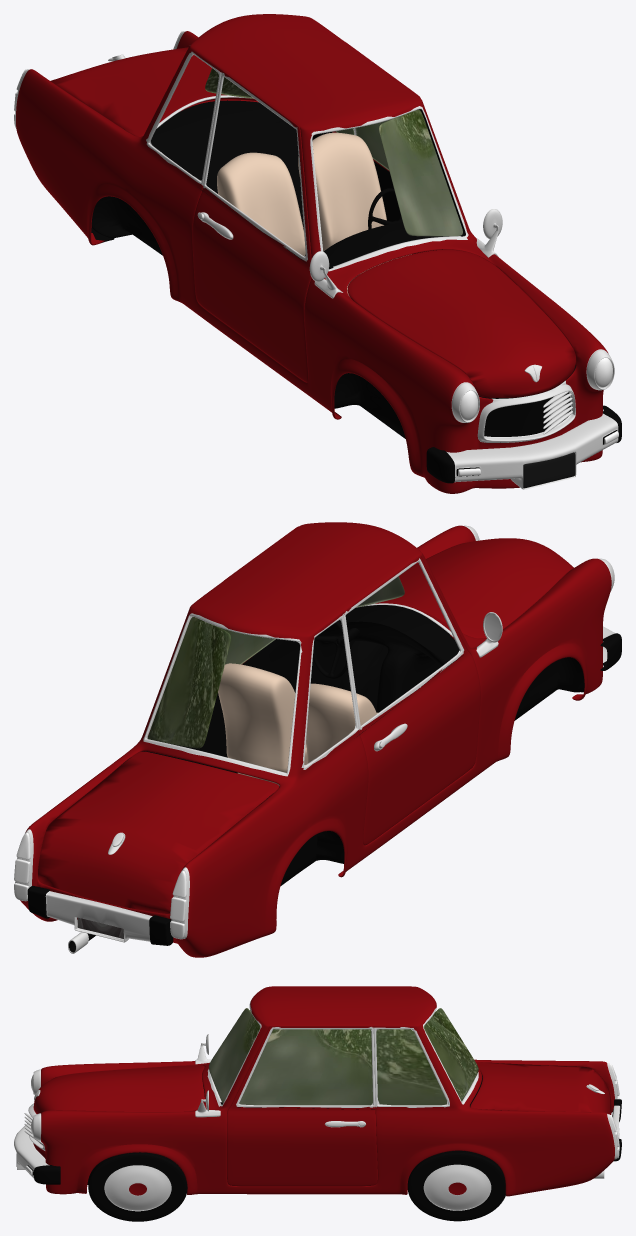
Rendered from toy-car.glb.
3 views of the same model, one above another, from view 1: azimuth 30°, elevation 25°; view 2: azimuth 150°, elevation 25°; view 3: azimuth 270°, elevation 25° (orthographic). The views are drawn at different scales.
Parts seen in each view (by area): view 1: cotxe base; view 2: cotxe base; view 3: cotxe base.
Boxes of the visible parts, box(x1,y1,x2,y2) form: cotxe base: box(14, 14, 621, 493); cotxe base: box(14, 522, 621, 957); cotxe base: box(14, 986, 621, 1221).
Size of the model in its own units: 0.1728 by 0.2477 by 0.707.
7 materials, 2 textured.
